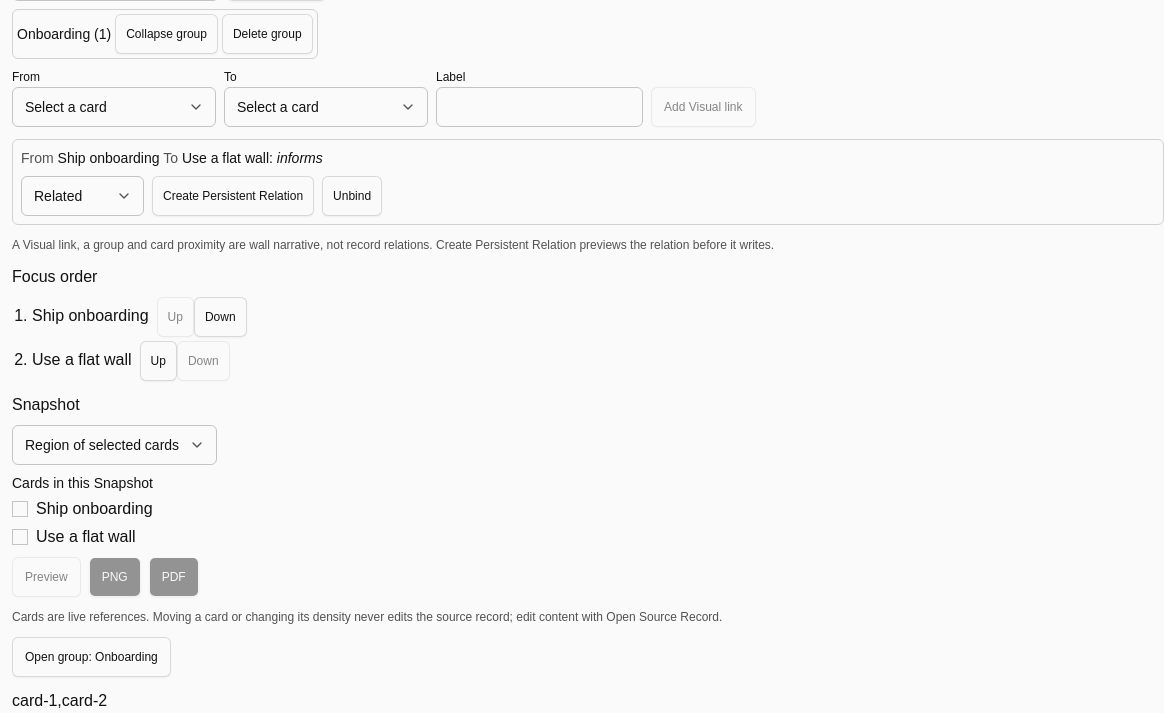
Test case: Project Wall in-wall group navigation › a deleted group is explained in place without switching groups
The width and height of the screenshot is (1164, 713).
(page scrolled)
Click the button "Open group: Onboarding" at [91, 657], box x1=12 y1=637 x2=171 y2=677
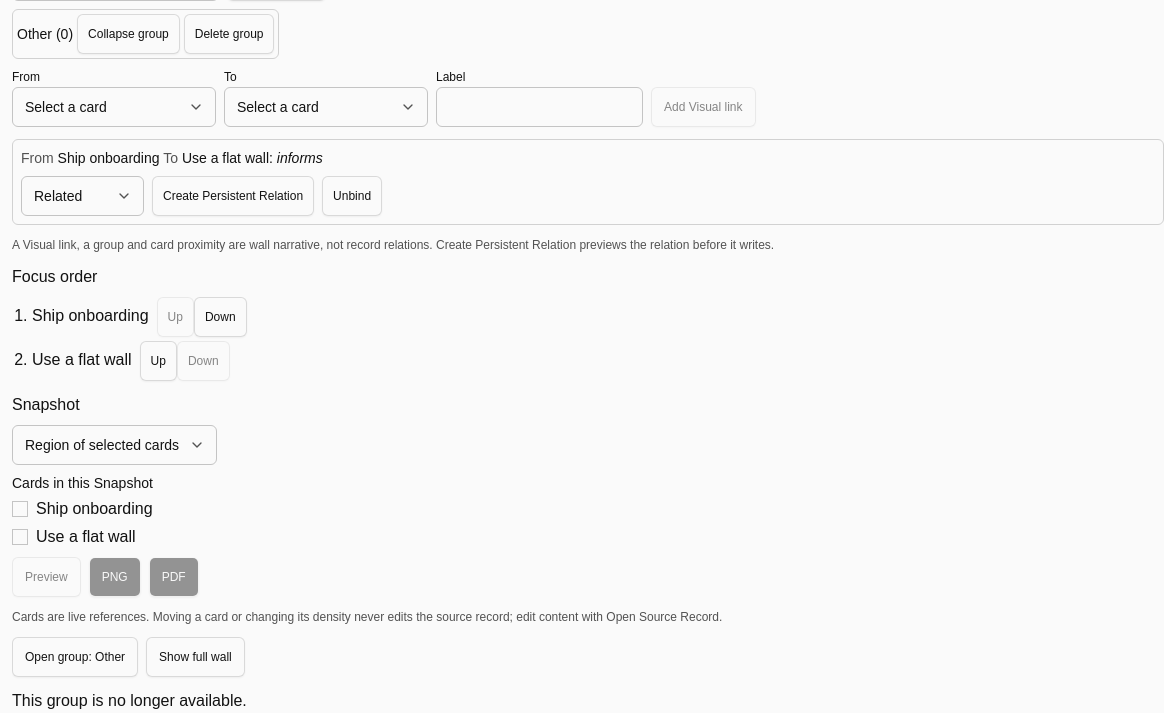
Expected: the text "This group is no longer available." is shown, x1=12 y1=692 x2=247 y2=709
Click the button "Show full wall" at [195, 657], box x1=146 y1=637 x2=245 y2=677
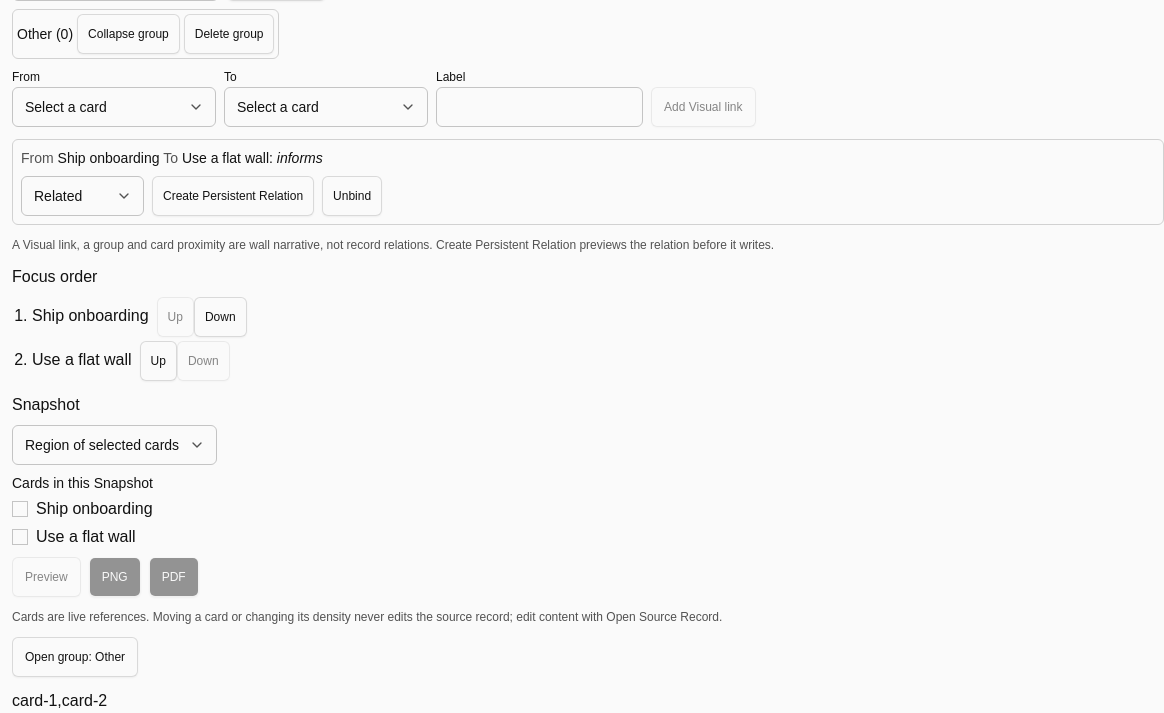
Expected: the text "This group is no longer available." is gone
Expected: the text with test id "shown" reads "card-1,card-2", x1=12 y1=692 x2=107 y2=709
